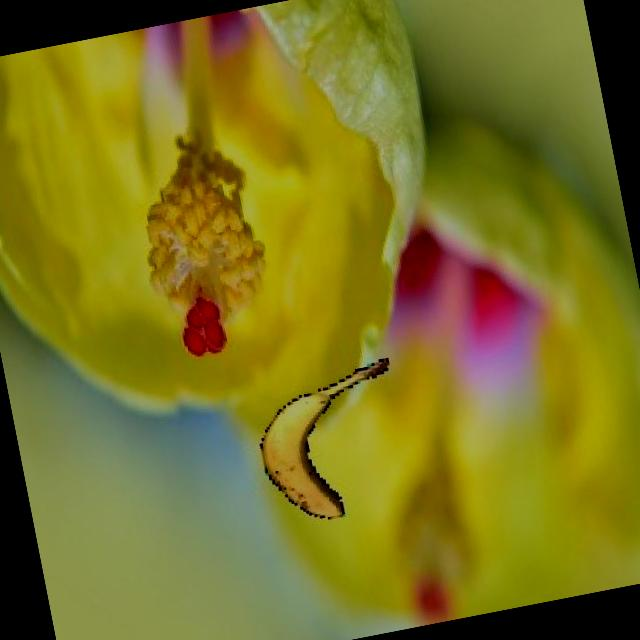Banana: (245, 359, 417, 539)
